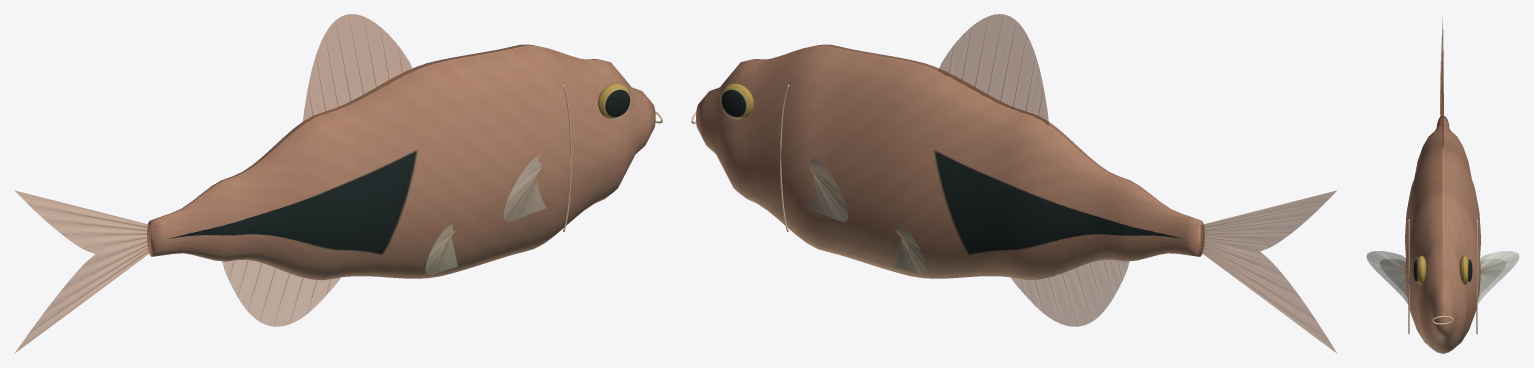
File: harlequin-mobile.glb
3 renders of one model, left to right at view 1: azimuth 30°, elevation 25°; view 2: azimuth 150°, elevation 25°; view 3: azimuth 270°, elevation 25°, orthographic. The views are drawn at different scales.
Parts seen in each view (by area): view 1: skin, tail, dorsal, anal, dorsal-ray, pectoral-left, pelvic-left, eye-pupil--1; view 2: skin, tail, dorsal, anal, dorsal-ray, pectoral-left, pelvic-left, eye-pupil--1; view 3: skin, pectoral-left, pelvic-left, operculum, eye-iris--1, dorsal-ray, tail, eye-pupil--1, dorsal.
Boxes of the visible parts, bbox=[...] form: skin: bbox=[147, 44, 655, 280]; tail: bbox=[15, 190, 150, 352]; dorsal: bbox=[302, 14, 413, 125]; anal: bbox=[222, 260, 340, 326]; dorsal-ray: bbox=[29, 17, 541, 330]; pectoral-left: bbox=[503, 154, 546, 221]; pelvic-left: bbox=[425, 223, 457, 274]; eye-pupil--1: bbox=[605, 89, 629, 116]; skin: bbox=[696, 44, 1204, 280]; tail: bbox=[1200, 190, 1336, 352]; dorsal: bbox=[938, 14, 1049, 125]; anal: bbox=[1011, 259, 1129, 326]; dorsal-ray: bbox=[809, 17, 1313, 321]; pectoral-left: bbox=[805, 155, 847, 221]; pelvic-left: bbox=[894, 223, 925, 274]; eye-pupil--1: bbox=[721, 89, 746, 116]; skin: bbox=[1405, 116, 1480, 353]; pectoral-left: bbox=[1366, 251, 1519, 303]; pelvic-left: bbox=[1380, 259, 1505, 295]; operculum: bbox=[1408, 219, 1477, 334]; eye-iris--1: bbox=[1417, 255, 1468, 284]; dorsal-ray: bbox=[1373, 54, 1511, 286]; tail: bbox=[1440, 18, 1443, 116]; eye-pupil--1: bbox=[1413, 259, 1472, 281]; dorsal: bbox=[1442, 70, 1443, 148].
Bounding box in the file's own units: 0.5912 × 0.2605 × 0.1571.
Materials: 11 (1 with a texture image).
